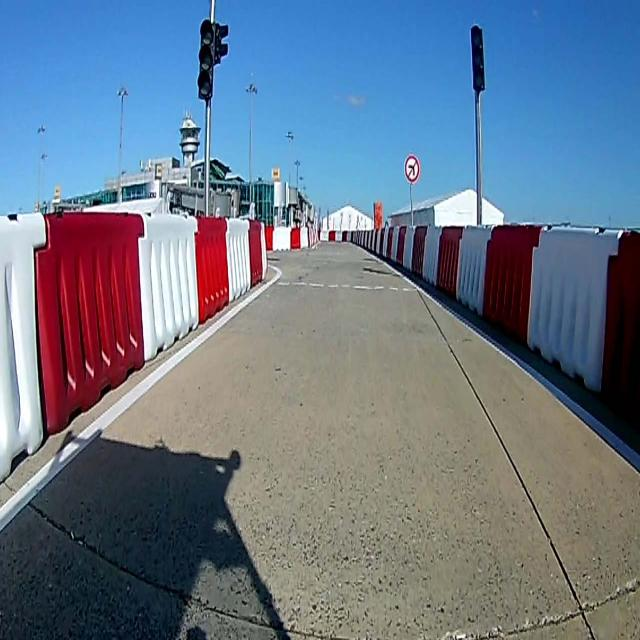soladonulmez: (404, 151, 422, 186)
